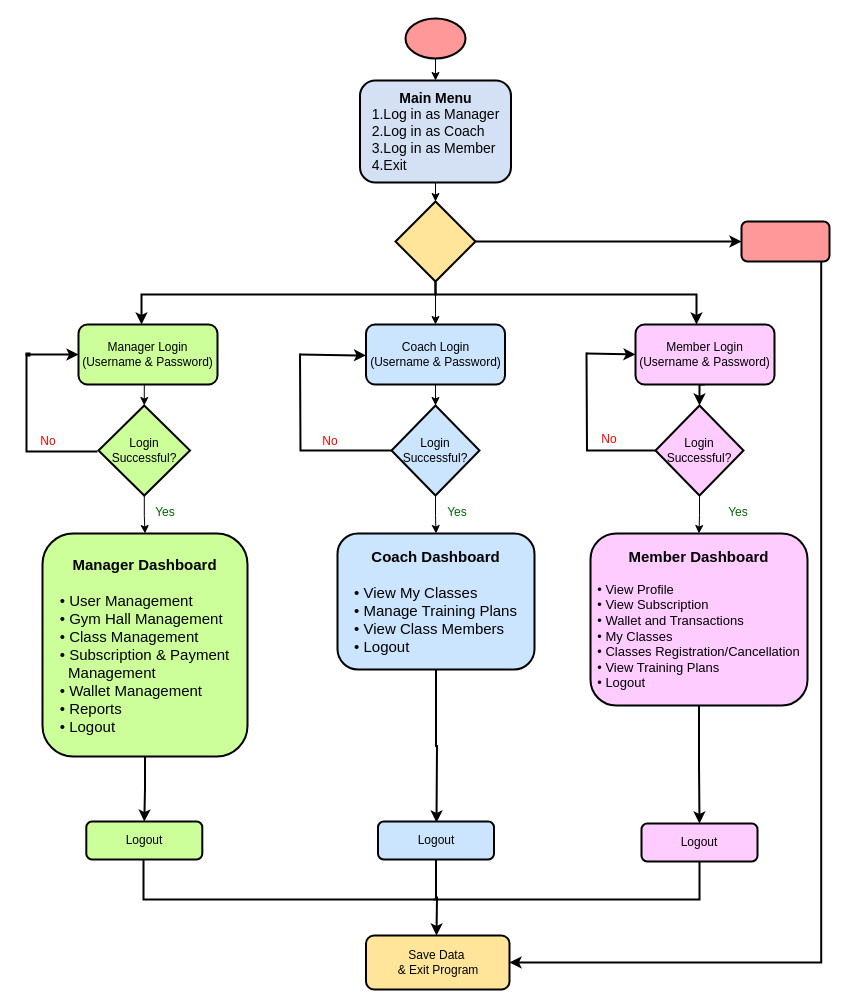
Image size: 847x1007. Some labels were removed from this diagram. Here are the shapes that lost their labels. From the top down, the centre of each, then its label:
At point (435, 38): "start".
At point (435, 241): "select option".
At point (785, 241): "Exit Program".
